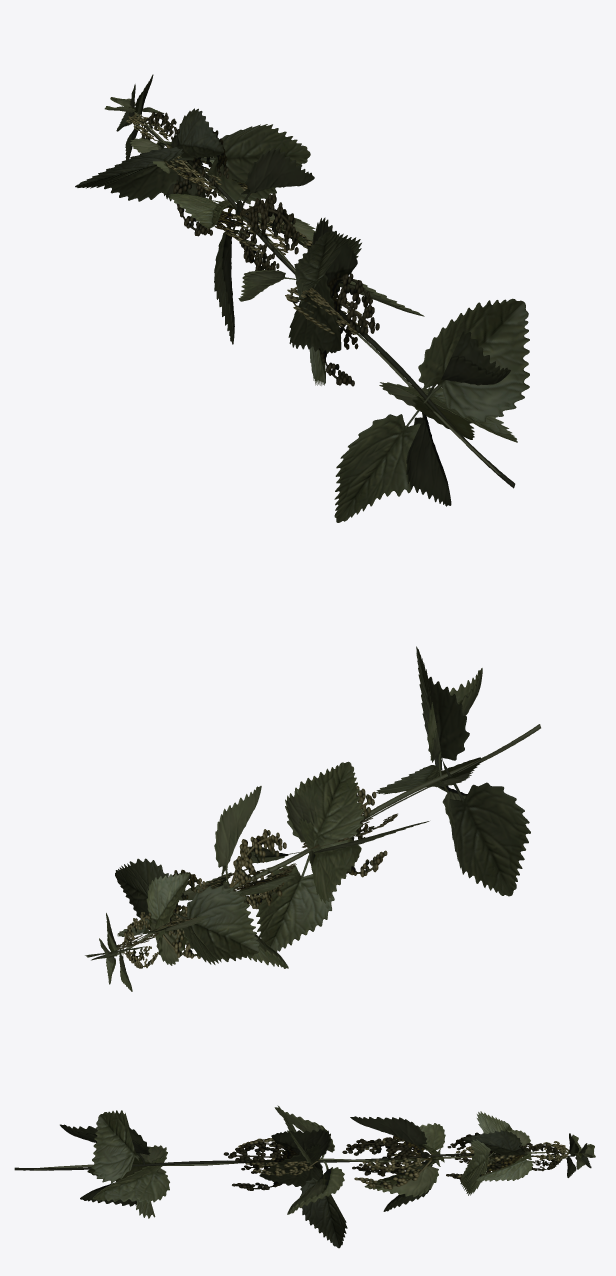
Rendered from TI_StingingNettel_04_2S.fbx.
The picture shows the model from 3 angles, top to bottom: view 1: azimuth 30°, elevation 25°; view 2: azimuth 150°, elevation 25°; view 3: azimuth 270°, elevation 25°; orthographic projection. The views are drawn at different scales.
Parts seen in each view (by area): view 1: TI_StingingNettel_04_2S; view 2: TI_StingingNettel_04_2S; view 3: TI_StingingNettel_04_2S.
Part boxes in pixels (box(x1,y1,x2,y2)): TI_StingingNettel_04_2S: box(75, 74, 529, 522); TI_StingingNettel_04_2S: box(85, 646, 540, 991); TI_StingingNettel_04_2S: box(14, 1105, 595, 1248).
Size of the model in its own units: 0.4273 by 0.4307 by 1.19.
